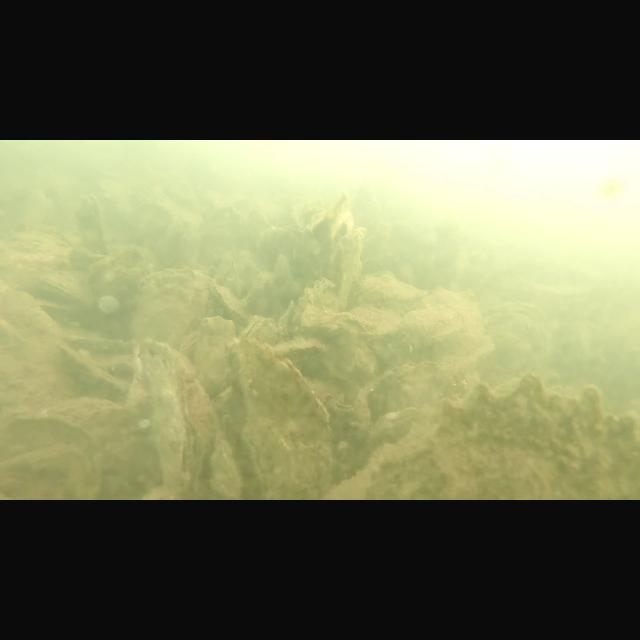Oyster-Closed: (324, 372, 640, 500), (229, 336, 333, 500), (139, 338, 213, 500), (44, 398, 138, 500), (0, 412, 100, 500), (129, 266, 211, 364), (365, 359, 465, 437), (87, 242, 151, 326), (192, 316, 234, 398), (294, 276, 340, 340), (322, 389, 364, 456), (358, 272, 424, 312), (272, 338, 324, 368), (242, 270, 274, 316), (270, 254, 296, 302), (216, 256, 242, 296), (276, 297, 300, 335)
Oyster-Open: (486, 302, 548, 384), (204, 430, 264, 500), (325, 196, 363, 300), (32, 272, 92, 310), (76, 194, 108, 256), (210, 281, 248, 323), (242, 313, 272, 347)
